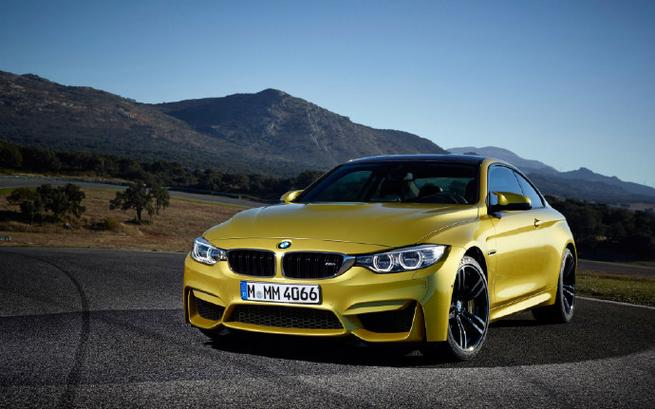汽车: (185, 150, 577, 362)
